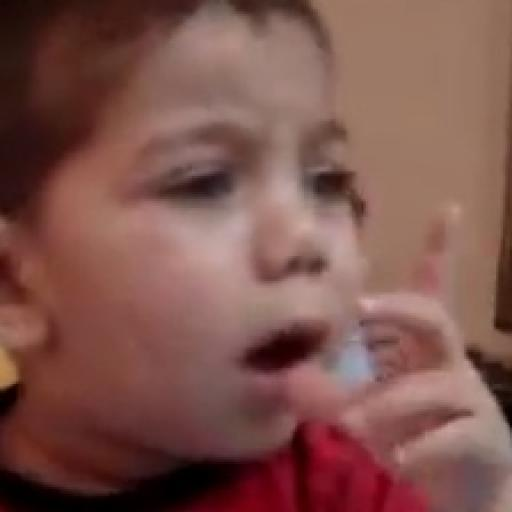Autism: (35, 30, 386, 476)
